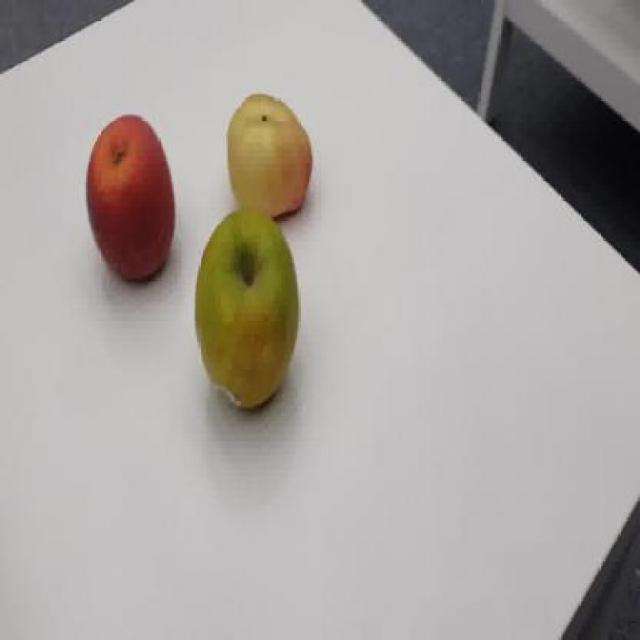Fresh Apple: (183, 205, 306, 412), (81, 112, 178, 292), (224, 91, 315, 229)
